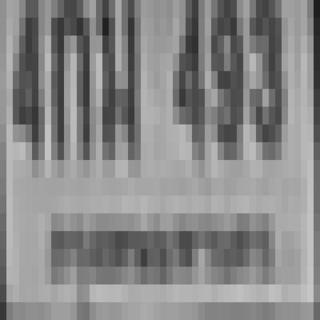A01: (49, 0, 94, 187)
A33: (95, 0, 146, 174)
N03: (246, 0, 291, 174)
N04: (160, 0, 210, 186), (6, 0, 49, 183)
N09: (207, 0, 249, 173)
P04: (35, 188, 288, 320)
